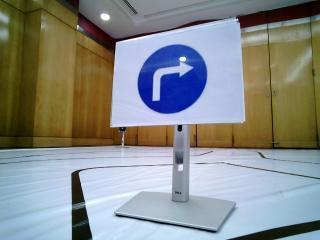right: (122, 46, 238, 113)
